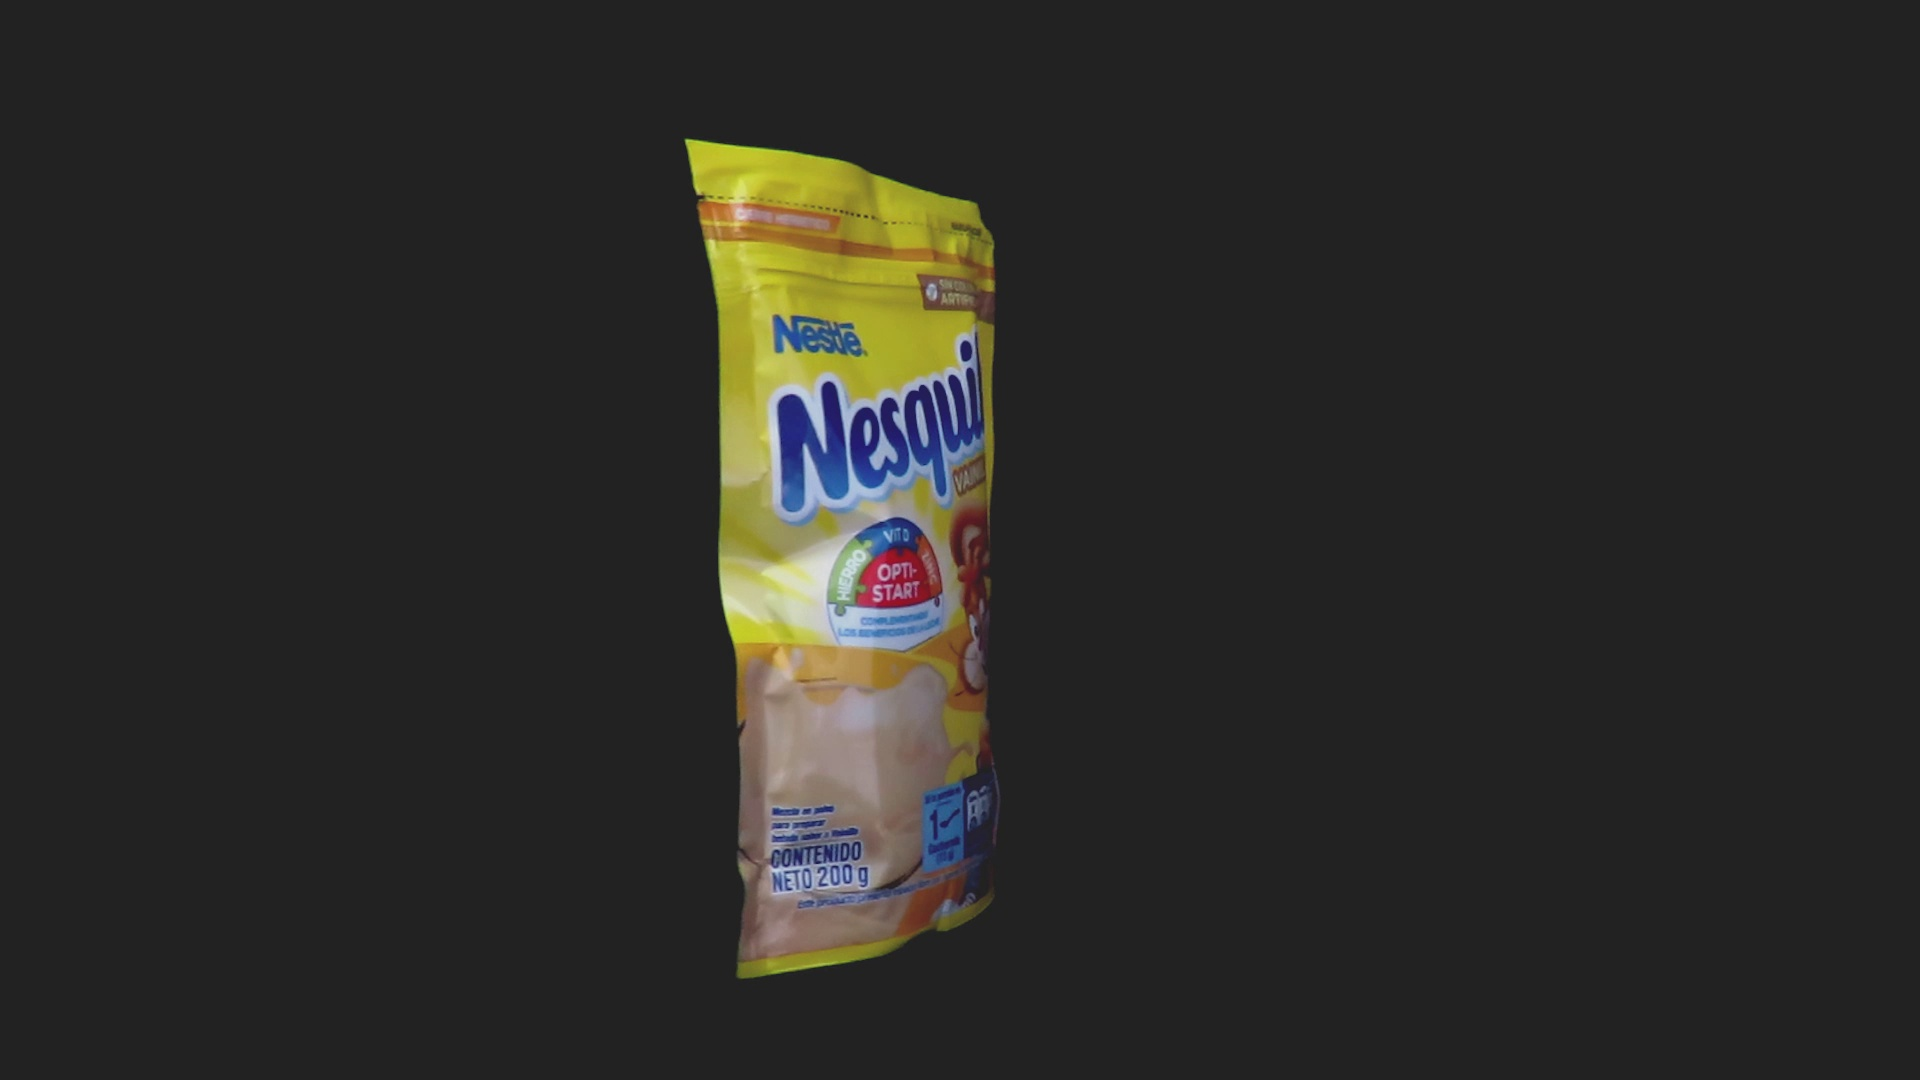COL0170306DYP20000: (680, 135, 1002, 985)
